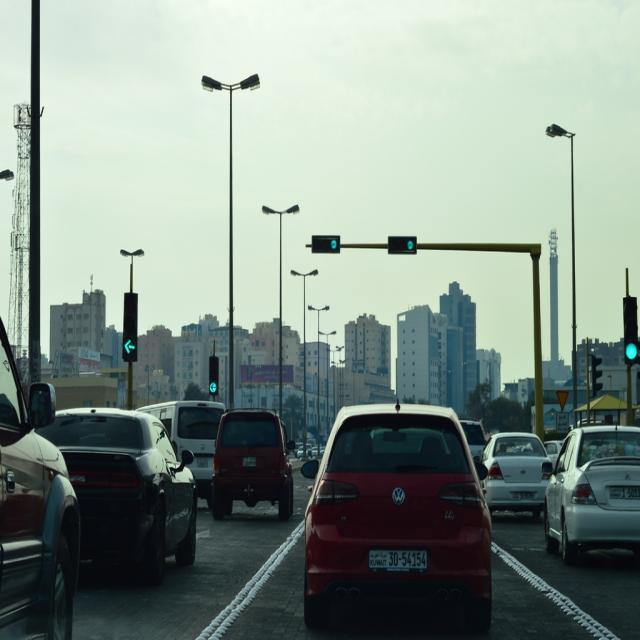off traffic light: (592, 355, 604, 396)
traffic light: (622, 297, 639, 364), (122, 293, 138, 359), (388, 236, 416, 254), (312, 237, 339, 252), (209, 357, 219, 395)
